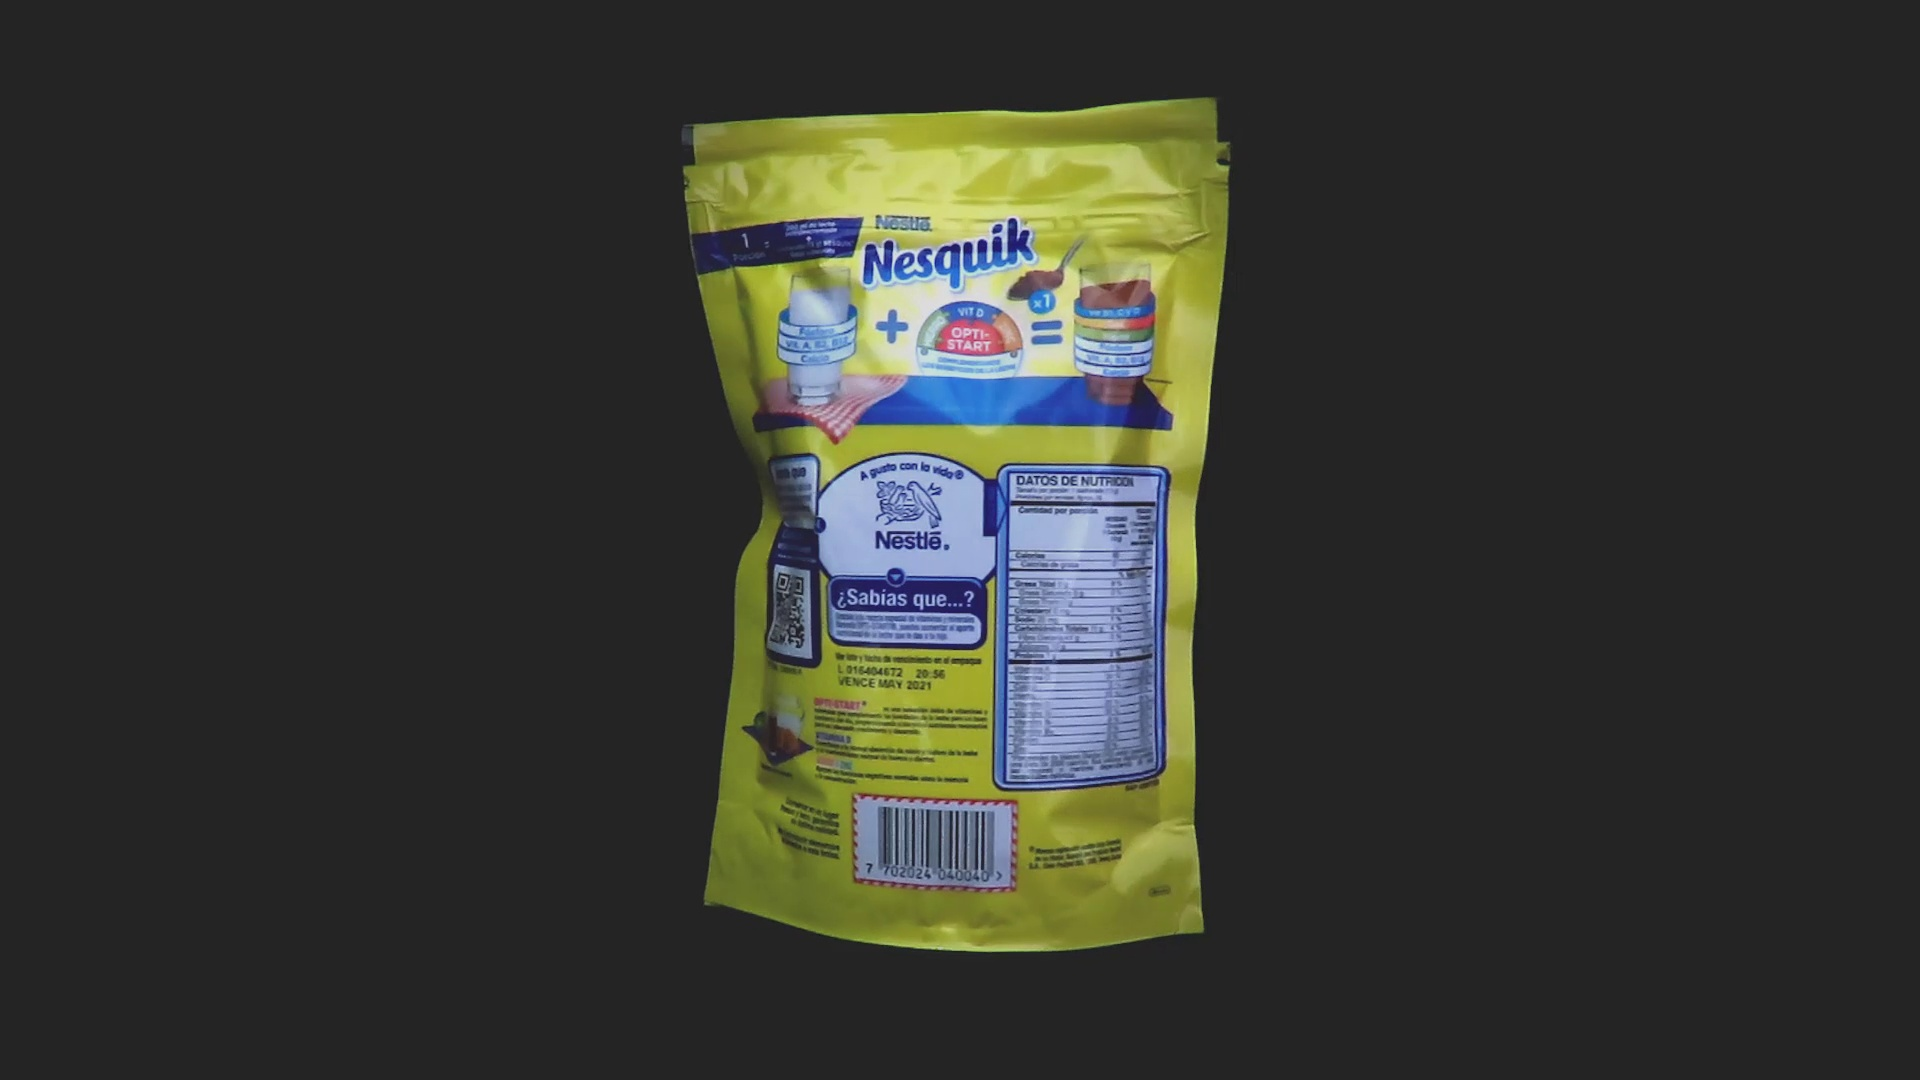COL0170303DYP20000: (678, 92, 1238, 957)
